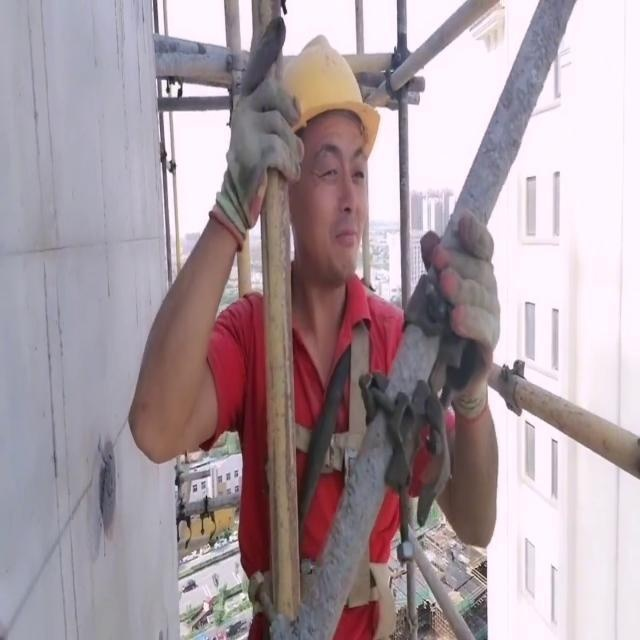Arnes_seguridad: (283, 269, 393, 639)
